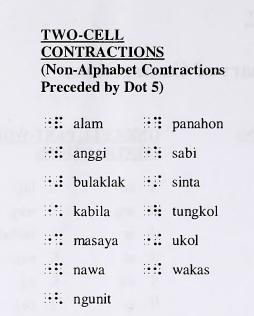alam: (54, 116, 64, 129)
anggi: (54, 145, 64, 159)
bulaklak: (54, 175, 63, 188)
dot_5: (43, 145, 53, 159), (143, 261, 151, 276), (43, 204, 52, 217), (43, 292, 52, 304), (44, 116, 52, 129), (44, 233, 52, 246), (143, 116, 151, 129), (143, 146, 151, 159), (143, 204, 151, 217), (43, 176, 52, 187), (43, 263, 52, 274), (143, 175, 151, 187), (143, 234, 151, 246)
kabila: (54, 204, 63, 217)
masama: (54, 233, 63, 246)
nawa: (54, 262, 63, 276)
ngunit: (54, 292, 64, 305)
panahon: (152, 115, 163, 130)
sabi: (153, 146, 162, 159)
sinta: (153, 175, 161, 187)
tungkol: (153, 204, 161, 217)
ukol: (153, 233, 162, 246)
wakas: (153, 263, 162, 275)
